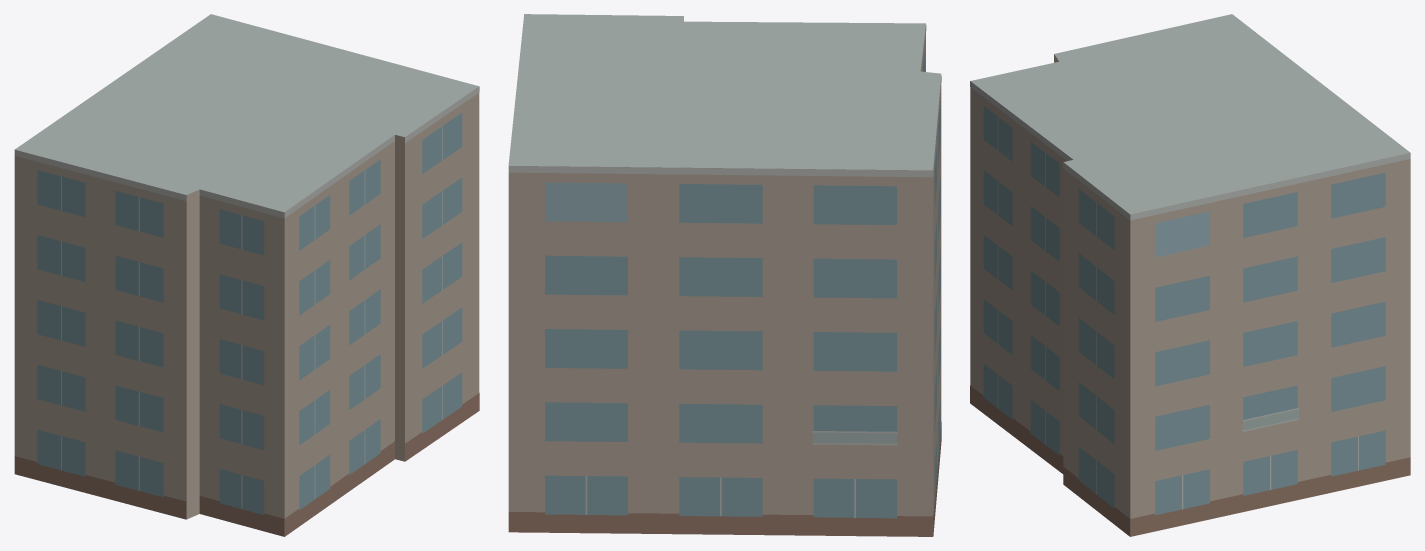
File: survey-upis-32828243.glb
3 views of the same model, side by side, from view 1: azimuth 30°, elevation 25°; view 2: azimuth 150°, elevation 25°; view 3: azimuth 270°, elevation 25° (orthographic). The views are drawn at different scales.
Parts seen in each view (by area): view 1: survey-upis-32828243.tmp; view 2: survey-upis-32828243.tmp; view 3: survey-upis-32828243.tmp.
Part boxes in pixels (x1=…): survey-upis-32828243.tmp: x1=14, y1=14, x2=479, y2=536; survey-upis-32828243.tmp: x1=508, y1=14, x2=941, y2=536; survey-upis-32828243.tmp: x1=970, y1=14, x2=1410, y2=536.
Size of the model in its own units: 17.48 by 13.1 by 16.23.
